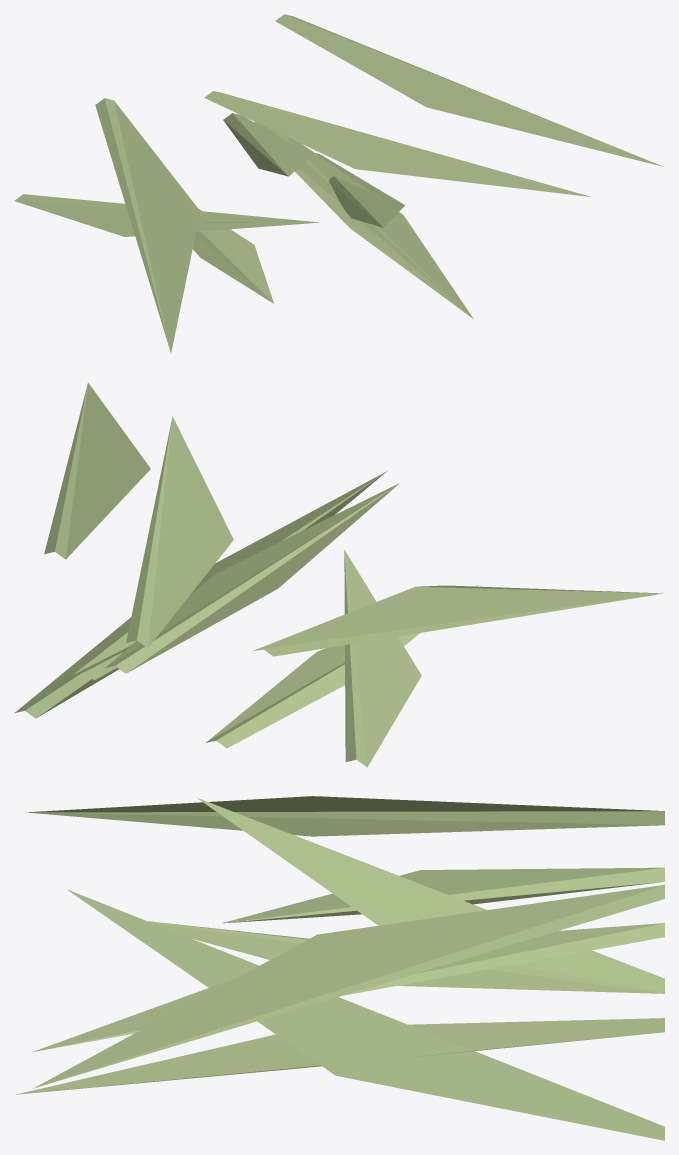
Rendered from green_grass.glb.
3 views of the same model, one above another, from view 1: azimuth 30°, elevation 25°; view 2: azimuth 150°, elevation 25°; view 3: azimuth 270°, elevation 25° (orthographic). The views are drawn at different scales.
Visible parts, largest first — view 1: green_grass_007, green_grass_005, green_grass_001, green_grass_003, green_grass_006, green_grass_004, green_grass_002, green_grass_000; view 2: green_grass_005, green_grass_007, green_grass_002, green_grass_001, green_grass_006, green_grass_004, green_grass_000, green_grass_003; view 3: green_grass_001, green_grass_000, green_grass_007, green_grass_002, green_grass_003, green_grass_006, green_grass_005, green_grass_004.
Boxes of the visible parts, x1,y1,x2,y2 form: green_grass_007: (95, 98, 200, 352); green_grass_005: (204, 91, 592, 197); green_grass_001: (275, 14, 663, 166); green_grass_003: (254, 122, 473, 318); green_grass_006: (14, 194, 320, 236); green_grass_004: (192, 208, 273, 303); green_grass_002: (223, 113, 311, 176); green_grass_000: (315, 153, 404, 227); green_grass_005: (126, 416, 233, 647); green_grass_007: (252, 585, 664, 656); green_grass_002: (104, 483, 399, 673); green_grass_001: (44, 382, 150, 559); green_grass_006: (344, 550, 421, 767); green_grass_004: (206, 585, 478, 748); green_grass_000: (14, 471, 386, 718); green_grass_003: (73, 632, 136, 680); green_grass_001: (33, 884, 664, 1088); green_grass_000: (67, 889, 664, 1140); green_grass_007: (25, 796, 664, 836); green_grass_002: (196, 797, 664, 992); green_grass_003: (14, 1018, 664, 1094); green_grass_006: (222, 867, 664, 923); green_grass_005: (32, 923, 664, 1052); green_grass_004: (148, 921, 664, 993).
Size of the model in its own units: 1.02 by 0.2902 by 0.7463.
